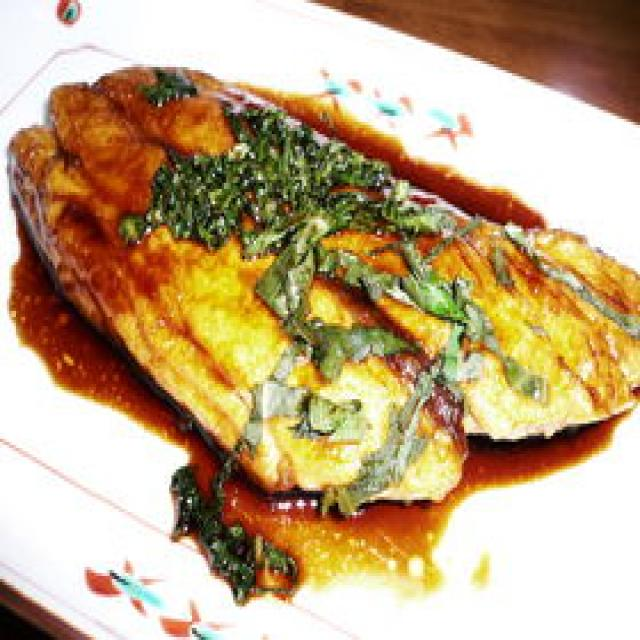熟制海鲜: (0, 64, 640, 521)
